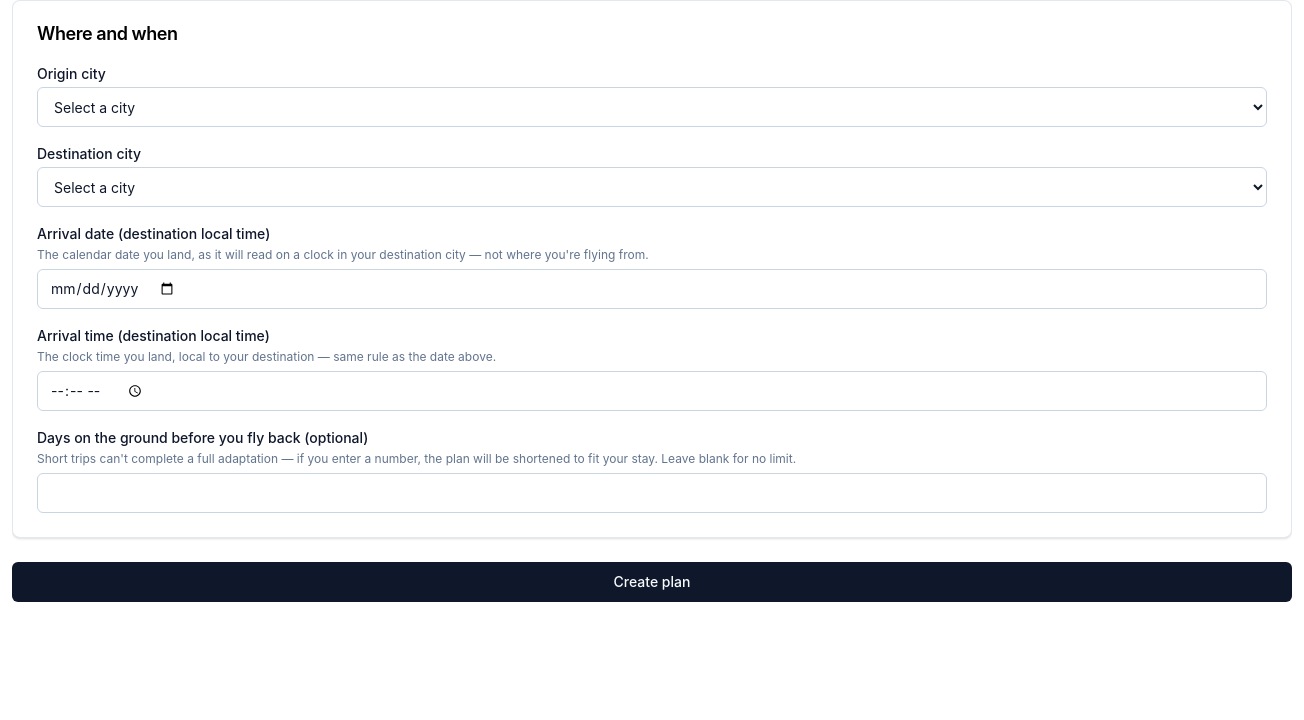
it: TripForm › blocks submit and shows an inline error when origin and destination are the same city
The width and height of the screenshot is (1304, 720).
Select "New York, United States" in the dropdown labelled "Origin city": (652, 107) [37,87,1267,127]
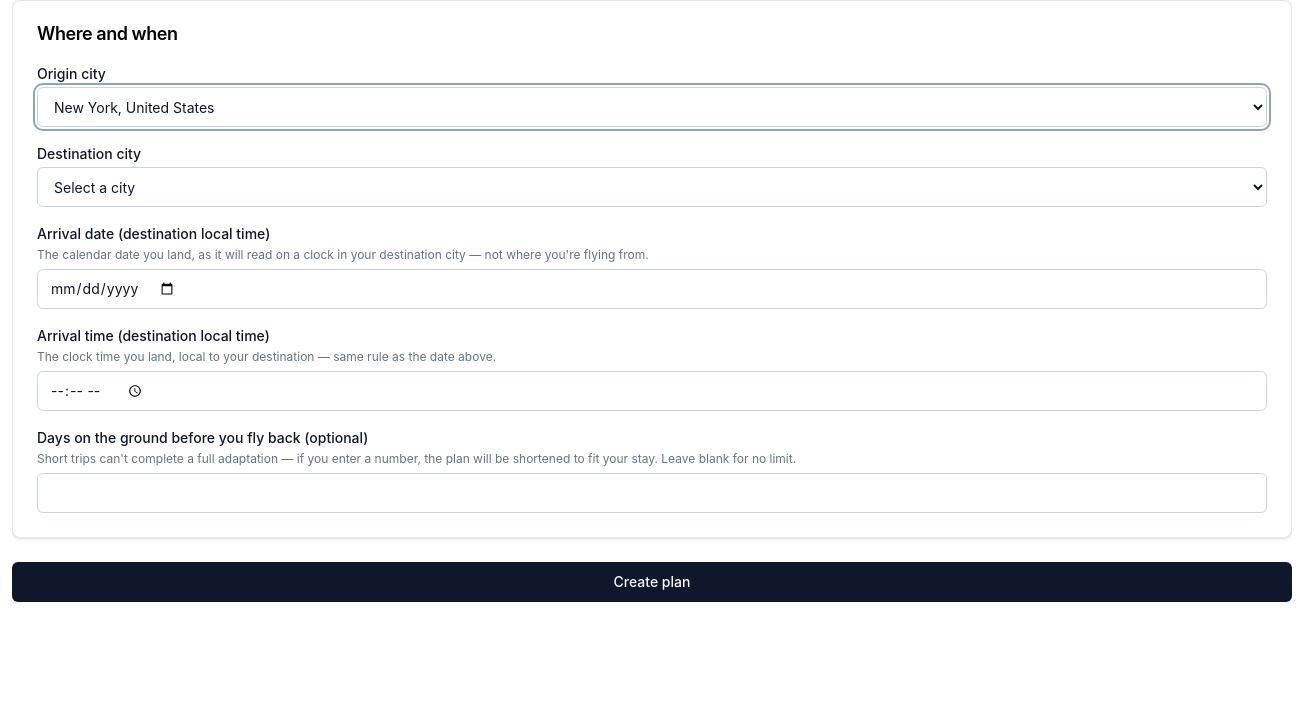
Select "New York, United States" in the dropdown labelled "Destination city": (652, 187) [37,167,1267,207]
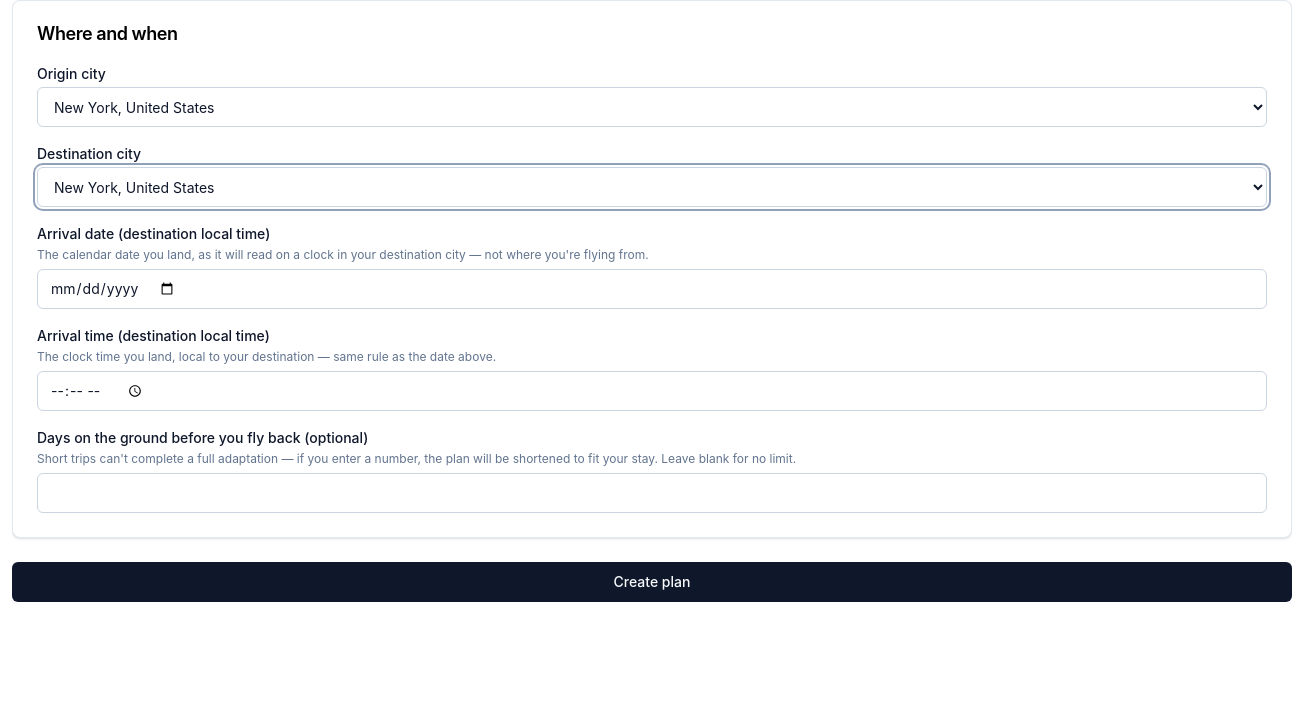
In the date field labelled "Arrival date (destination local time)": (652, 289) [37,269,1267,309], type "2026-08-01"
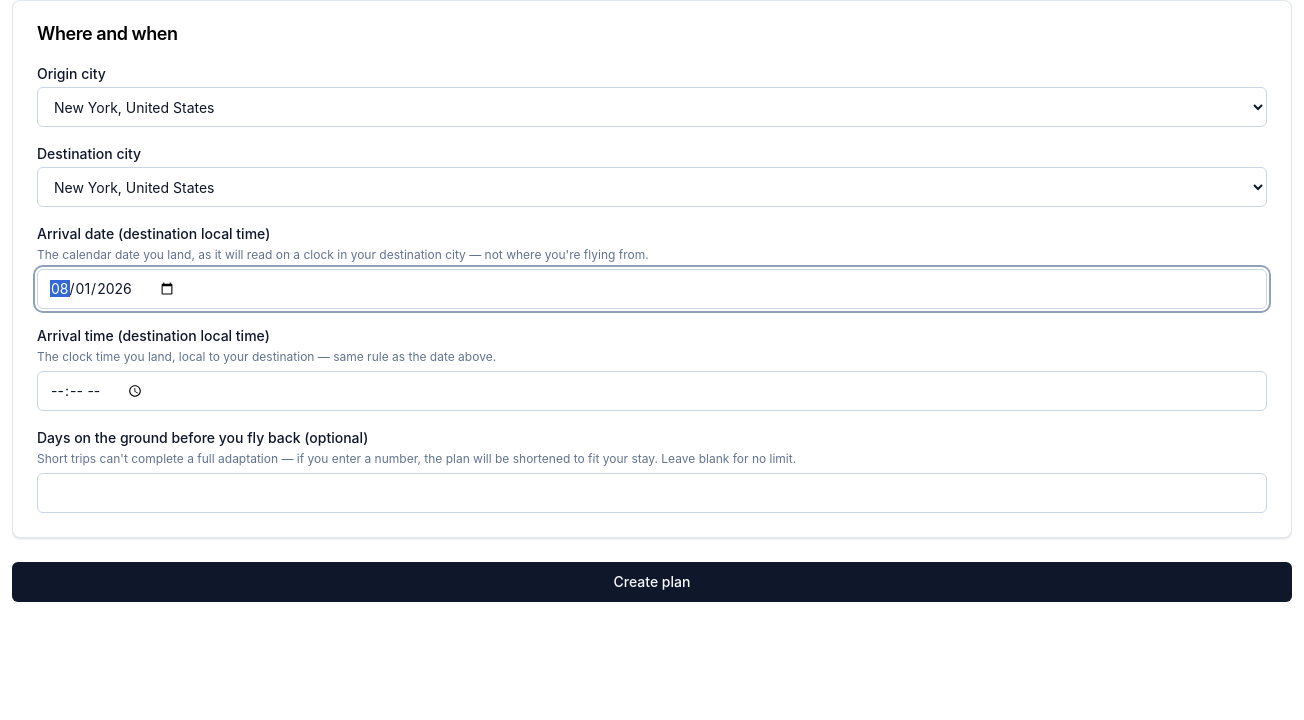
In the time field labelled "Arrival time (destination local time)": (652, 391) [37,371,1267,411], type "09:00"
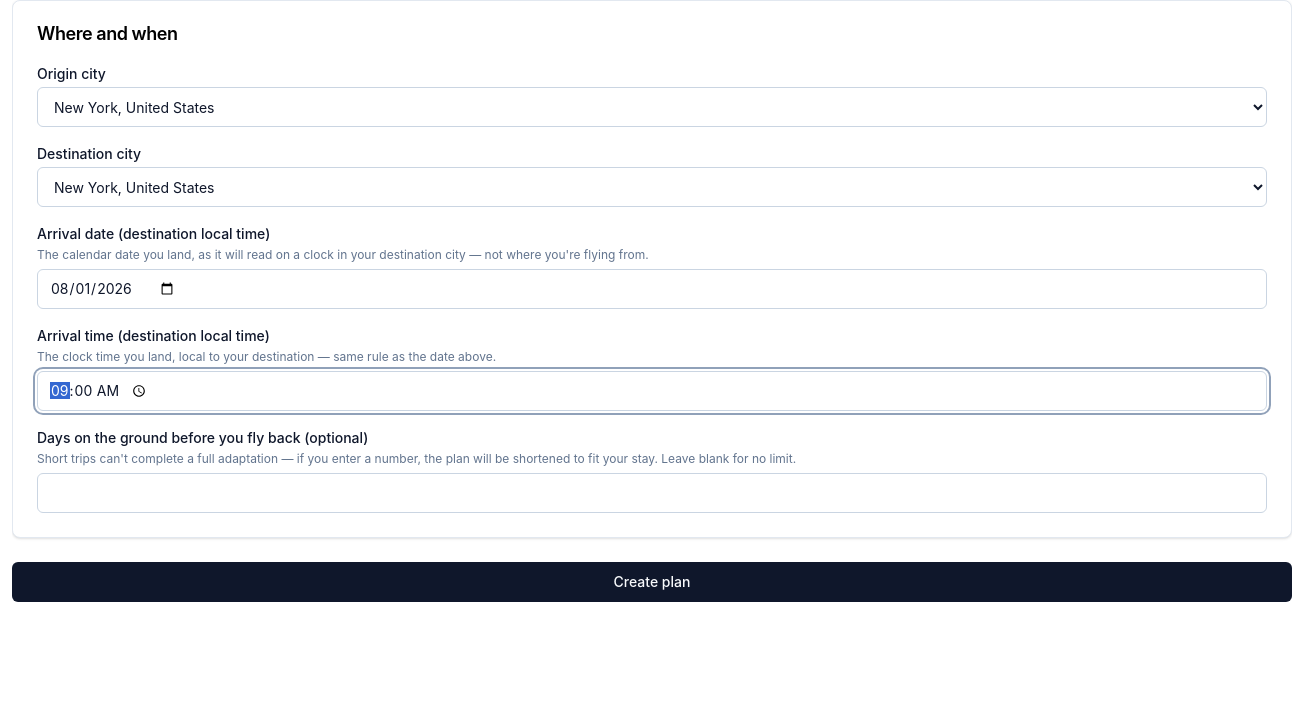
Click the button "Create plan": (652, 582) [12,562,1292,602]
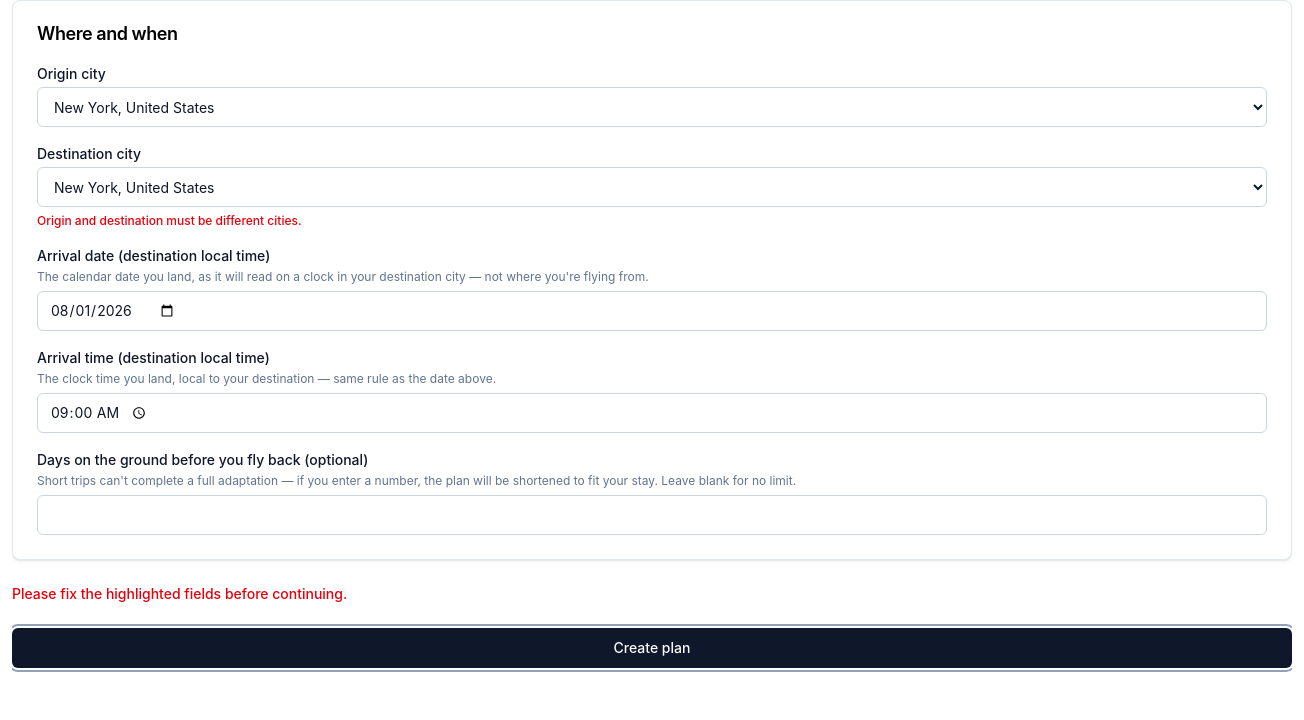
Expected: the text "Origin and destination must be different cities." is shown, [37,213,302,228]
